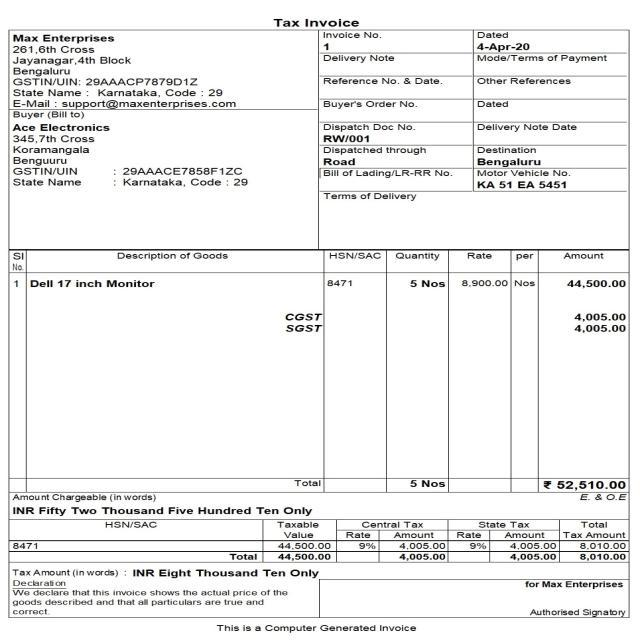ROI: (8, 246, 635, 302), (7, 517, 631, 564), (11, 111, 254, 205), (476, 54, 621, 190), (319, 53, 465, 185), (9, 31, 239, 109), (270, 308, 635, 351), (11, 578, 293, 617), (9, 491, 315, 520), (283, 475, 629, 491), (8, 561, 328, 578), (211, 618, 420, 635), (524, 601, 634, 626), (521, 577, 628, 594), (320, 191, 419, 209), (266, 11, 362, 28), (320, 29, 393, 51), (474, 26, 534, 50)
